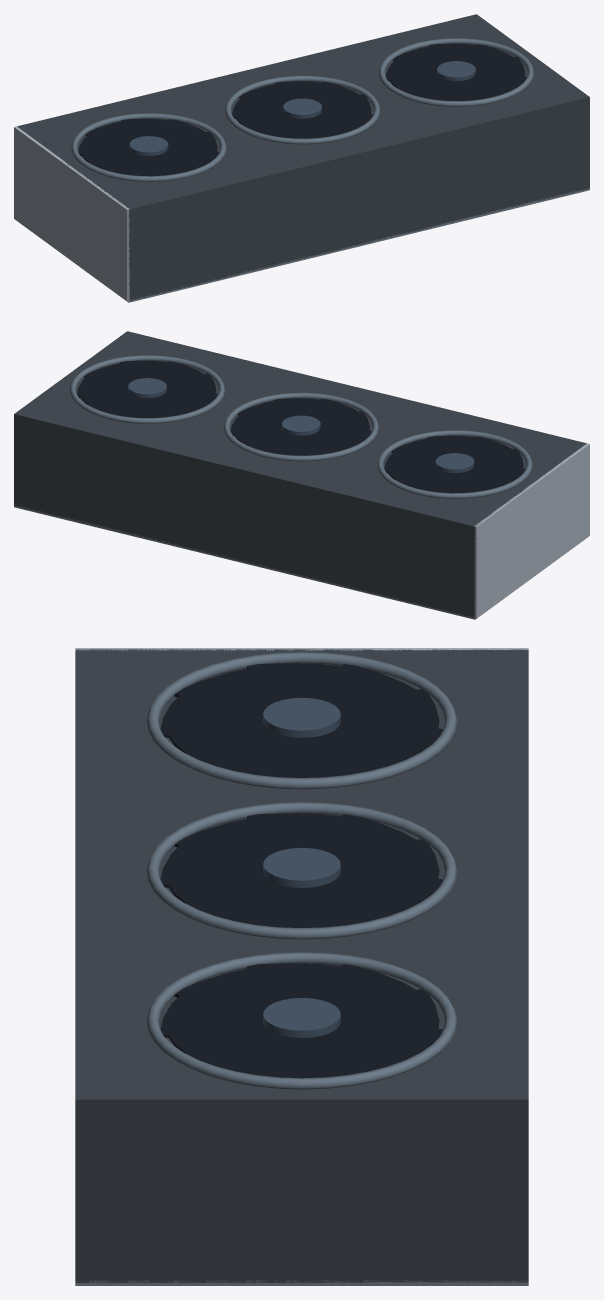
File: retail-asus-tuf-gaming-geforce-rtx-5070-oc-edition-12gb.glb
3 views of the same model, one above another, from view 1: azimuth 30°, elevation 25°; view 2: azimuth 150°, elevation 25°; view 3: azimuth 270°, elevation 25° (orthographic). The views are drawn at different scales.
Visible parts, largest first — view 1: Cooler shroud, Cooler blade (×27), Bracket, Fan rim (×3), Fan hub (×3), Backplate; view 2: Cooler shroud, Cooler blade (×27), Bracket, Fan rim (×3), Fan hub (×3), Backplate; view 3: Cooler shroud, Cooler blade (×27), Fan rim (×3), Fan hub (×3), Backplate, Bracket.
Boxes of the visible parts, x1,y1,x2,y2 form: Cooler shroud: [17, 14, 589, 300]; Cooler blade (×27): [78, 43, 526, 176]; Bracket: [14, 126, 129, 301]; Fan rim (×3): [71, 38, 533, 181]; Fan hub (×3): [129, 61, 475, 155]; Backplate: [35, 188, 589, 302]; Cooler shroud: [14, 331, 586, 617]; Cooler blade (×27): [77, 360, 525, 493]; Bracket: [474, 443, 589, 618]; Fan rim (×3): [70, 355, 532, 498]; Fan hub (×3): [128, 378, 474, 472]; Backplate: [14, 504, 568, 619]; Cooler shroud: [75, 649, 528, 1282]; Cooler blade (×27): [160, 663, 442, 1078]; Fan rim (×3): [146, 652, 457, 1089]; Fan hub (×3): [263, 697, 340, 1037]; Backplate: [75, 1280, 528, 1285]; Bracket: [75, 648, 528, 650].
Size of the model in its own units: 0.33 by 0.067 by 0.14.
